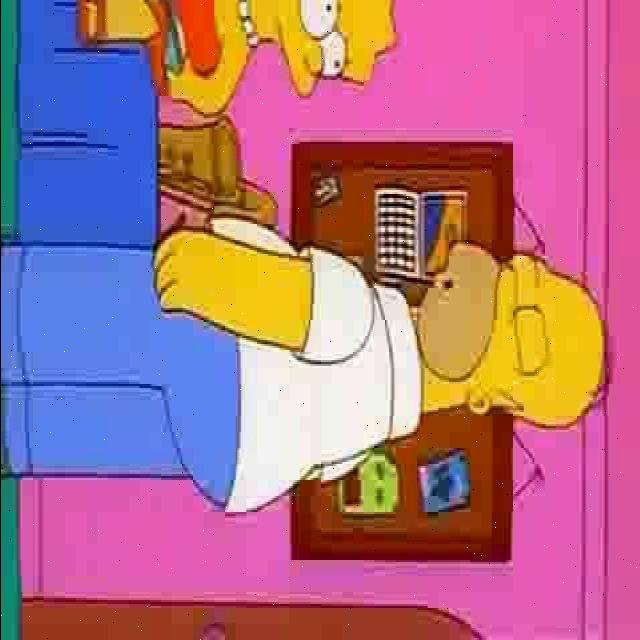Homer Simpson: (412, 234, 610, 434)
Lisa Simpson: (246, 0, 396, 100)
